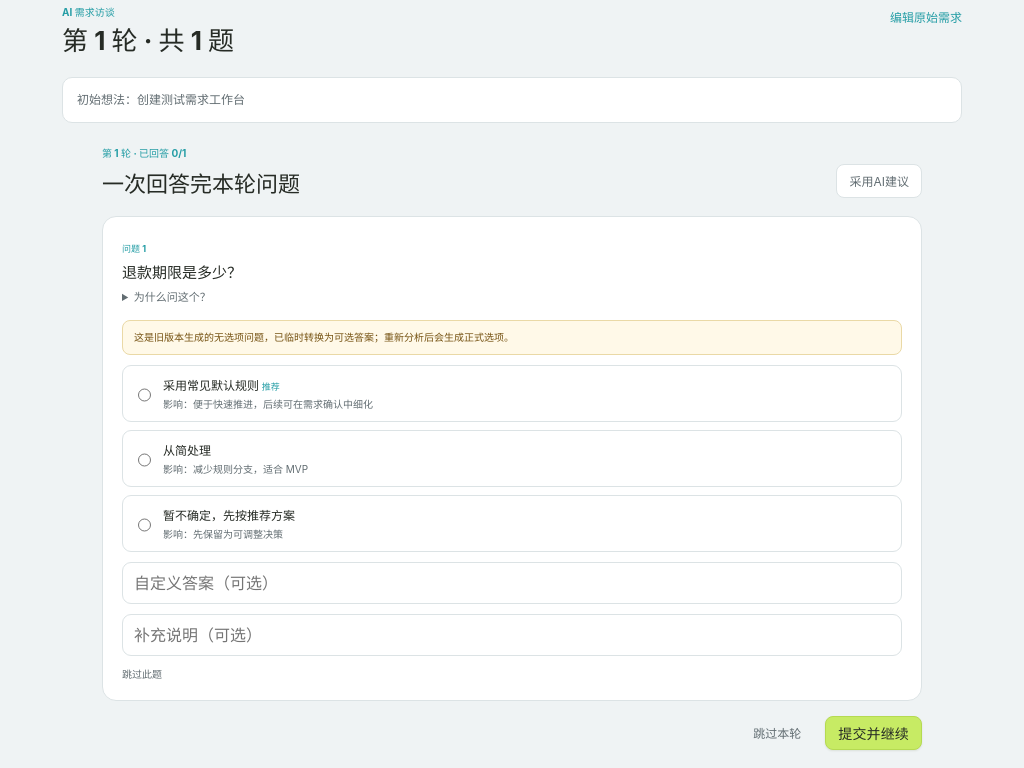
QuestionWizardView › persists answers before requesting and commits only the completed next state
Step 1. Click the radio button with test id "option-refund-window-:0" → (144, 395), box top-left (138, 379), bottom-right (151, 411)
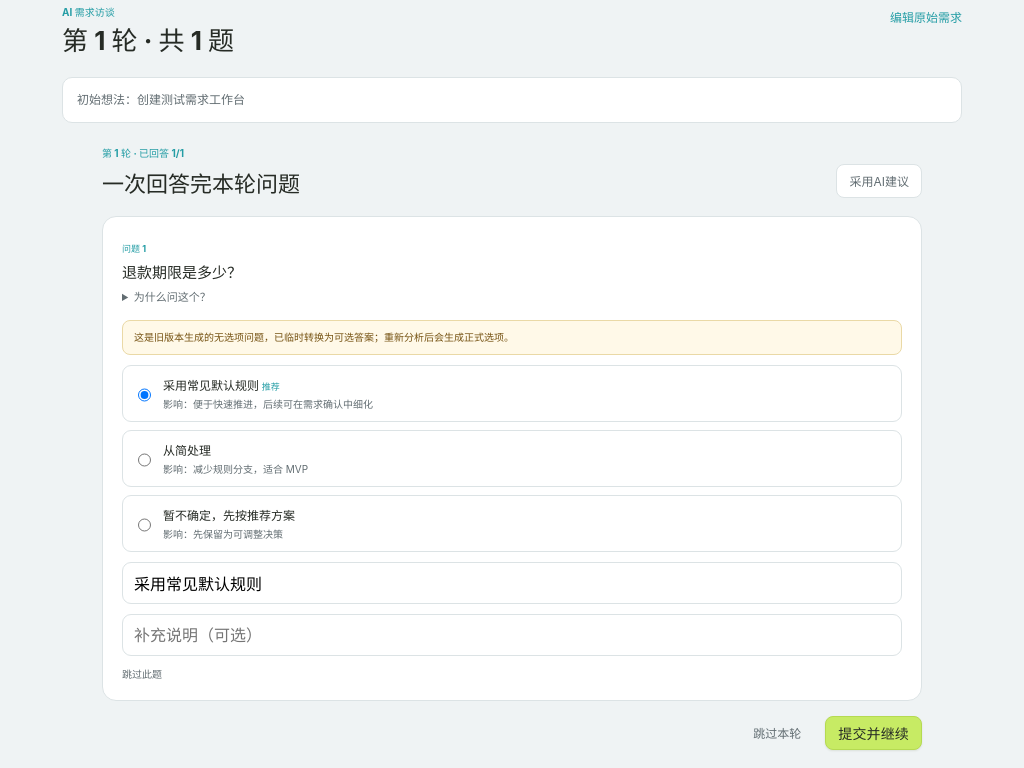
Step 2. Click the button with test id "submit-batch" → (874, 733), box top-left (825, 716), bottom-right (922, 750)
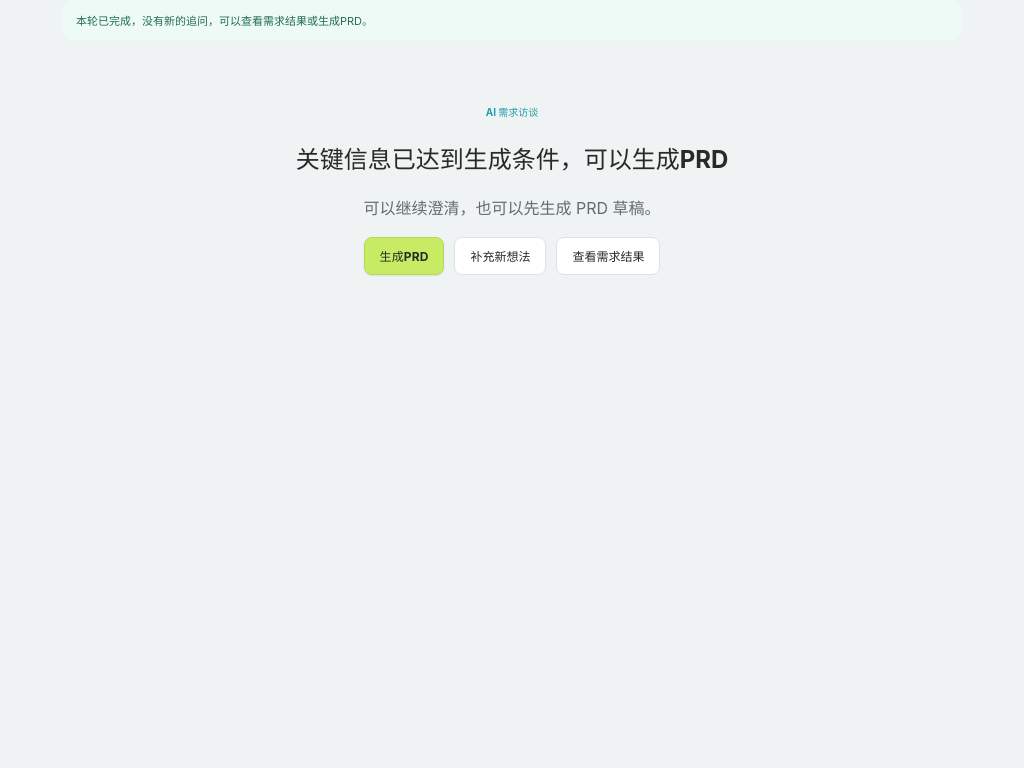
Now the text "本轮已完成，没有新的追问" is shown, box top-left (76, 14), bottom-right (373, 28)
